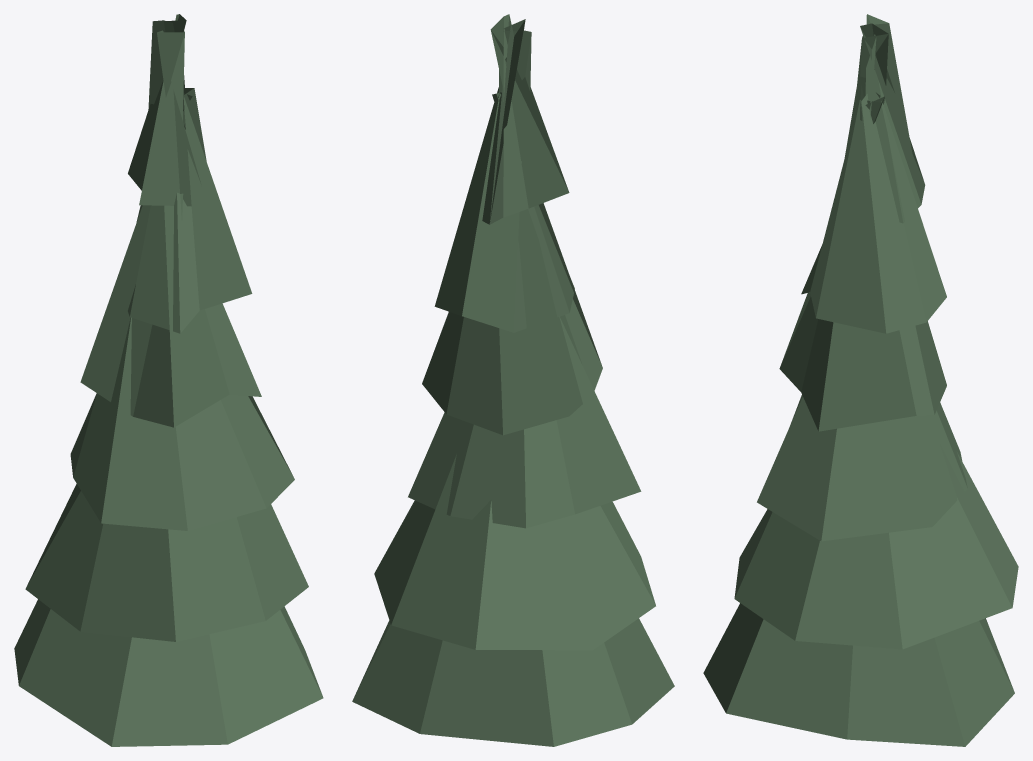
File: tree_pine_c.glb
3 views of the same model, side by side, from view 1: azimuth 30°, elevation 25°; view 2: azimuth 150°, elevation 25°; view 3: azimuth 270°, elevation 25° (orthographic).
Visible parts, largest first — view 1: tree_pine_c; view 2: tree_pine_c; view 3: tree_pine_c.
Part boxes in pixels (x1,y1,x2,y2): tree_pine_c: [14, 14, 323, 746]; tree_pine_c: [352, 14, 674, 746]; tree_pine_c: [703, 14, 1018, 746].
Bounding box in the file's own units: 5.92 × 15.34 × 6.24.
